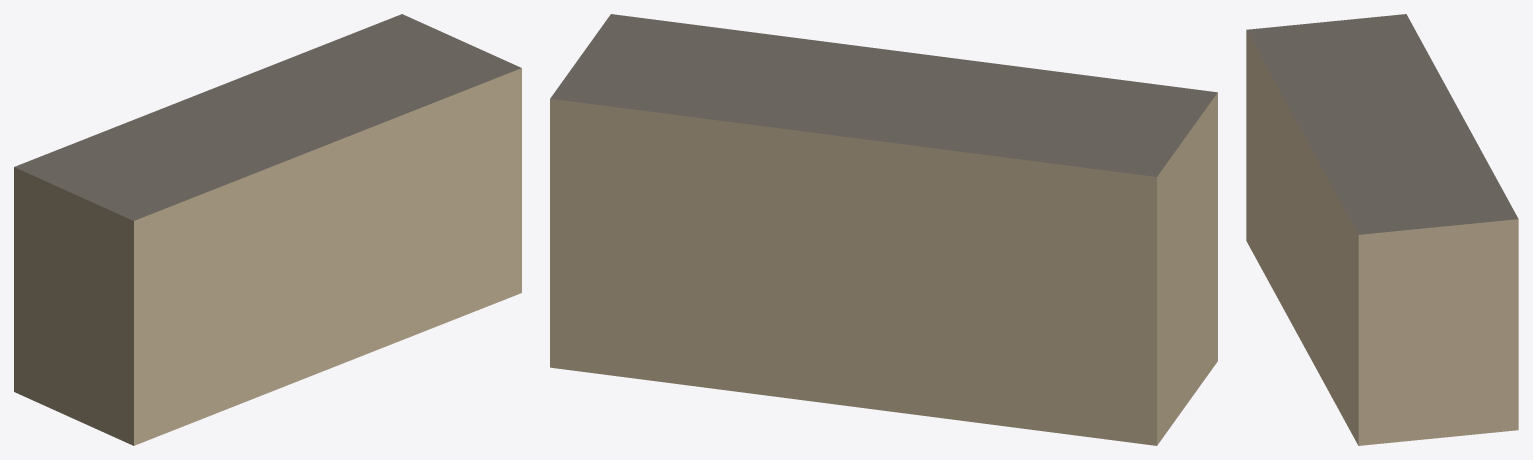
The picture shows the model from 3 angles, left to right: view 1: azimuth 30°, elevation 25°; view 2: azimuth 150°, elevation 25°; view 3: azimuth 270°, elevation 25°; orthographic projection. The views are drawn at different scales.
Parts seen in each view (by area): view 1: HP-w572270463; view 2: HP-w572270463; view 3: HP-w572270463.
Boxes of the visible parts, box(x1,y1,x2,y2) form: HP-w572270463: box(14, 14, 521, 445); HP-w572270463: box(550, 14, 1217, 445); HP-w572270463: box(1246, 14, 1518, 445).
Bounding box in the file's own units: 44.43 × 19.8 × 23.15.
